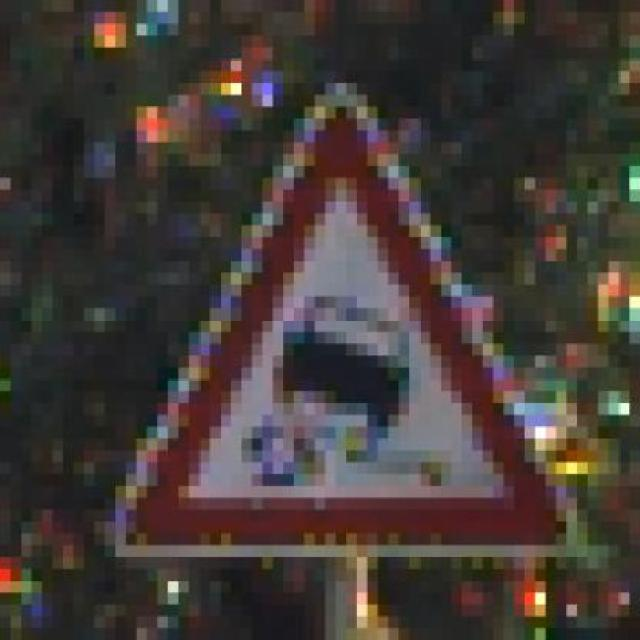Slippery Road Ahead: (94, 83, 588, 557)
